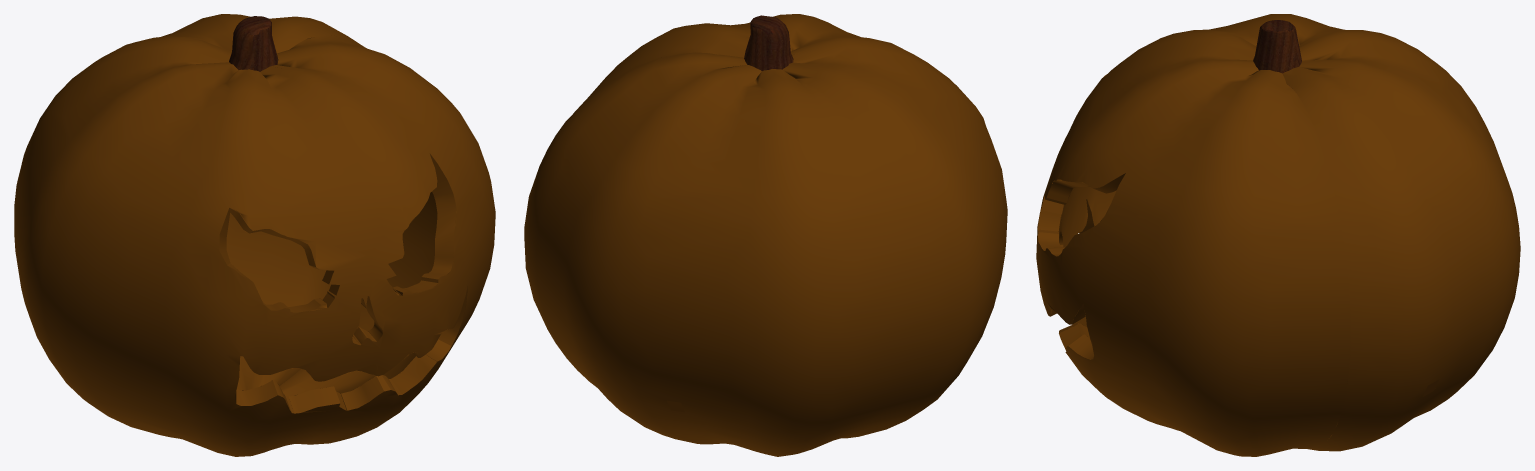
Rendered from calabaza.glb.
3 renders of one model, left to right at view 1: azimuth 30°, elevation 25°; view 2: azimuth 150°, elevation 25°; view 3: azimuth 270°, elevation 25°, orthographic.
Visible parts, largest first — view 1: defaultMaterial; view 2: defaultMaterial; view 3: defaultMaterial.
Part boxes in pixels (bbox=[...]): defaultMaterial: bbox=[14, 14, 495, 456]; defaultMaterial: bbox=[524, 14, 1007, 456]; defaultMaterial: bbox=[1036, 14, 1520, 456].
Size of the model in its own units: 2 by 1.83 by 1.98.
1 material, 1 textured.
